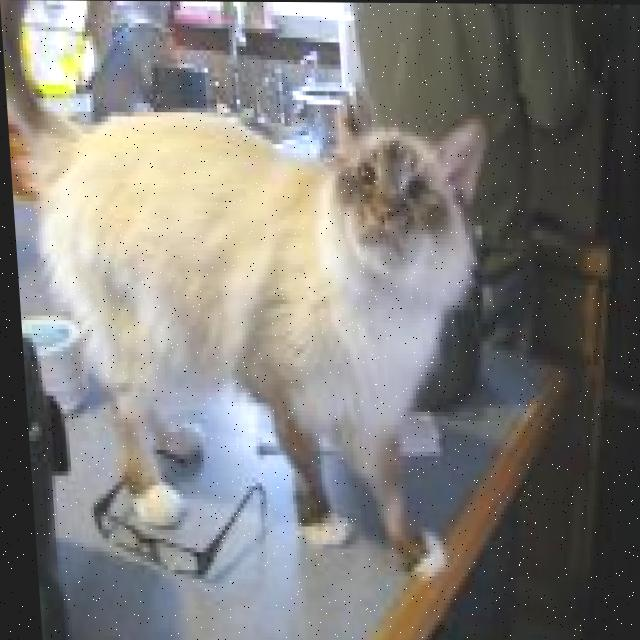Birman: (0, 0, 514, 589)
